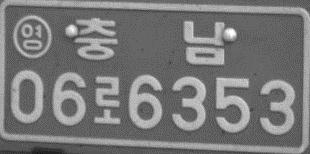0: (9, 69, 43, 125)
3: (258, 79, 296, 136), (170, 75, 206, 131)
5: (214, 76, 251, 135)
6: (51, 70, 86, 127), (127, 73, 162, 130)
로: (92, 74, 122, 126)
영: (12, 13, 51, 59)
충남_D: (73, 17, 229, 67)
